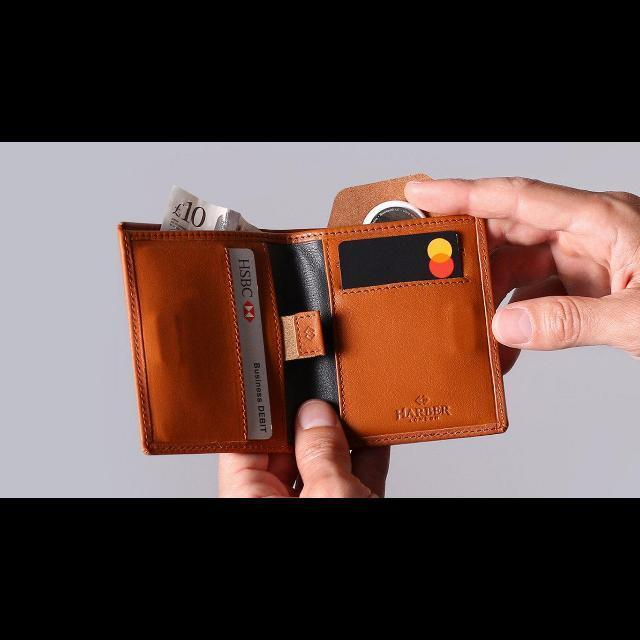wallet: (113, 214, 511, 454)
